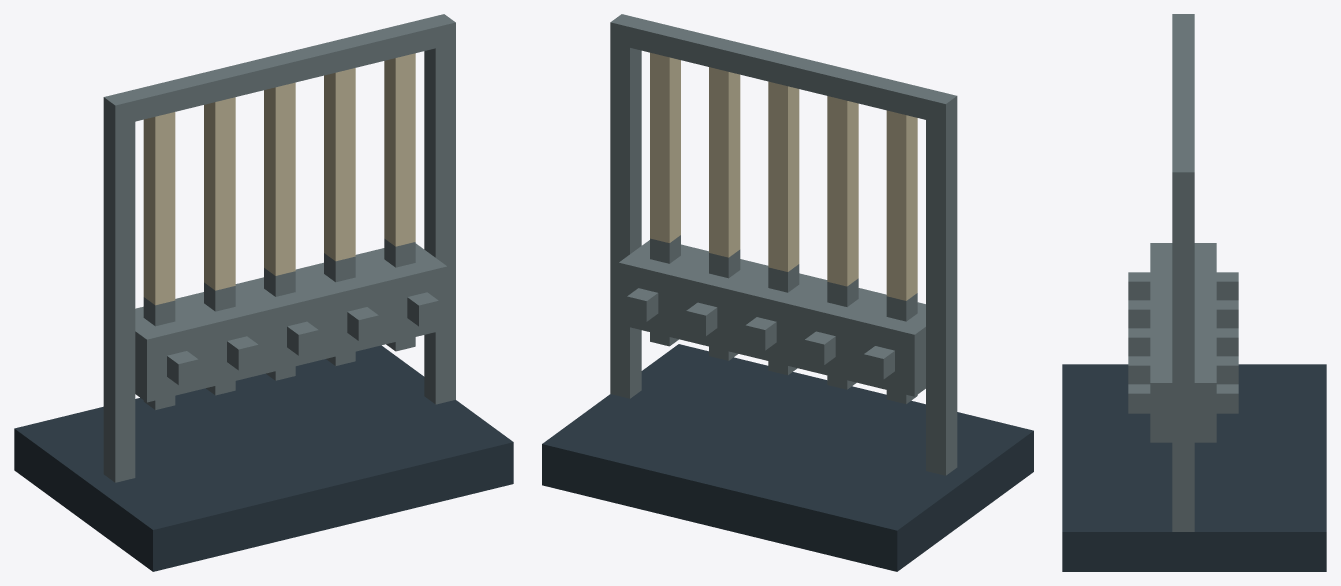
Rendered from physics-04.glb.
The picture shows the model from 3 angles, left to right: view 1: azimuth 30°, elevation 25°; view 2: azimuth 150°, elevation 25°; view 3: azimuth 270°, elevation 25°; orthographic projection. The views are drawn at different scales.
Parts seen in each view (by area): view 1: Newton cradle; view 2: Newton cradle; view 3: Newton cradle.
Part boxes in pixels (x1=…): Newton cradle: x1=14, y1=14, x2=513, y2=571; Newton cradle: x1=542, y1=14, x2=1033, y2=571; Newton cradle: x1=1062, y1=14, x2=1326, y2=571.
Bounding box in the file's own units: 1.44 × 1.6 × 0.96.
